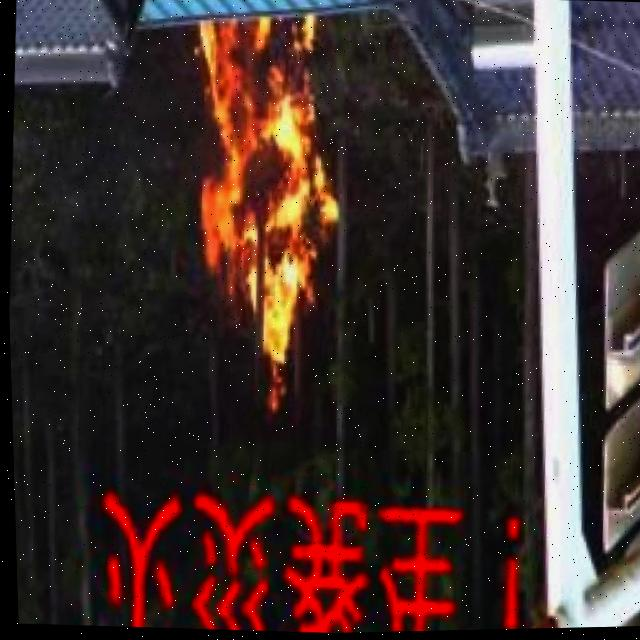Smoke: (163, 6, 354, 429)
